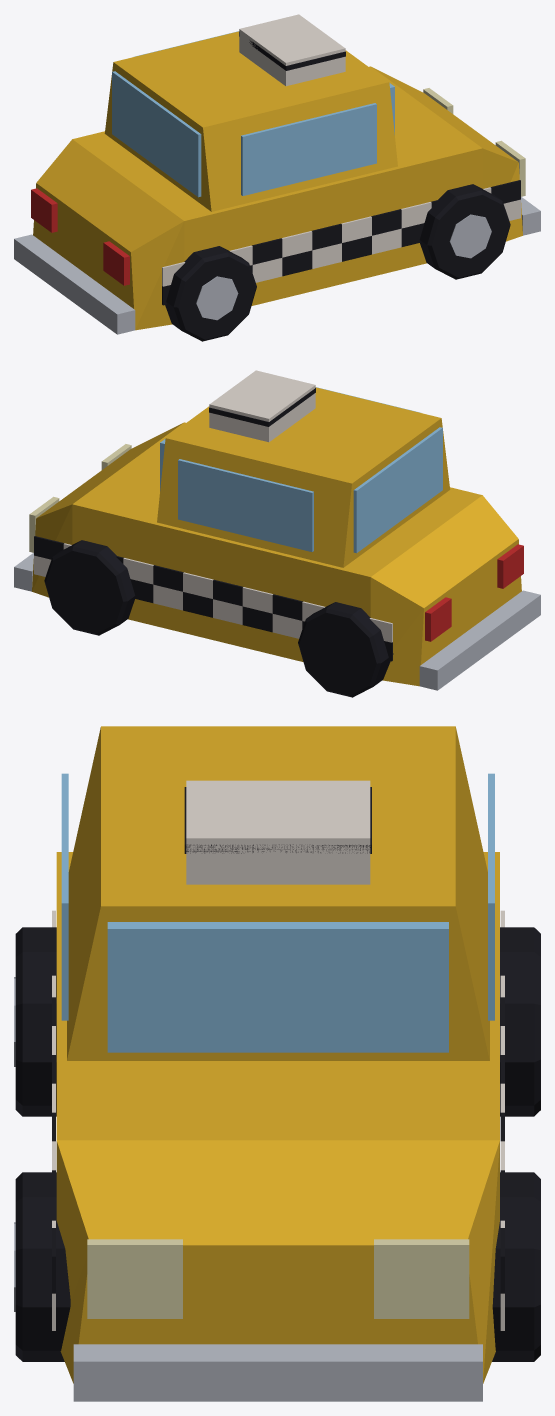
File: hazard-taxi.glb
3 renders of one model, top to bottom at view 1: azimuth 30°, elevation 25°; view 2: azimuth 150°, elevation 25°; view 3: azimuth 270°, elevation 25°, orthographic. The views are drawn at different scales.
Visible parts, largest first — view 1: hazard-taxi; view 2: hazard-taxi; view 3: hazard-taxi.
Boxes of the visible parts, left/top/right/bottom form: hazard-taxi: left=14, top=14, right=540, bottom=341; hazard-taxi: left=14, top=370, right=540, bottom=697; hazard-taxi: left=14, top=726, right=540, bottom=1401.
Bounding box in the file's own units: 2.84 × 1.4 × 1.54.
